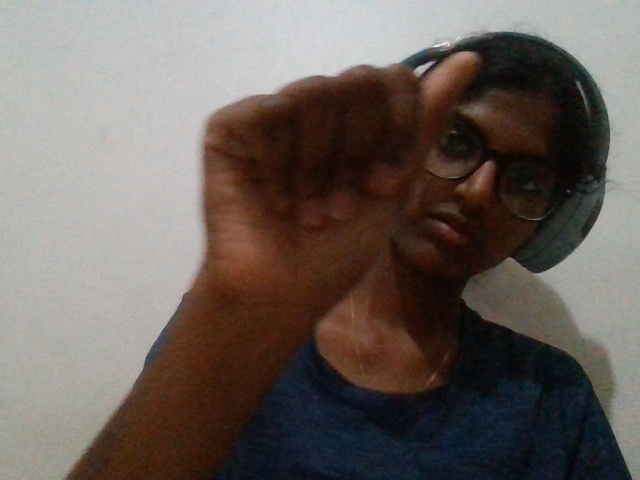A: (148, 37, 490, 384)
